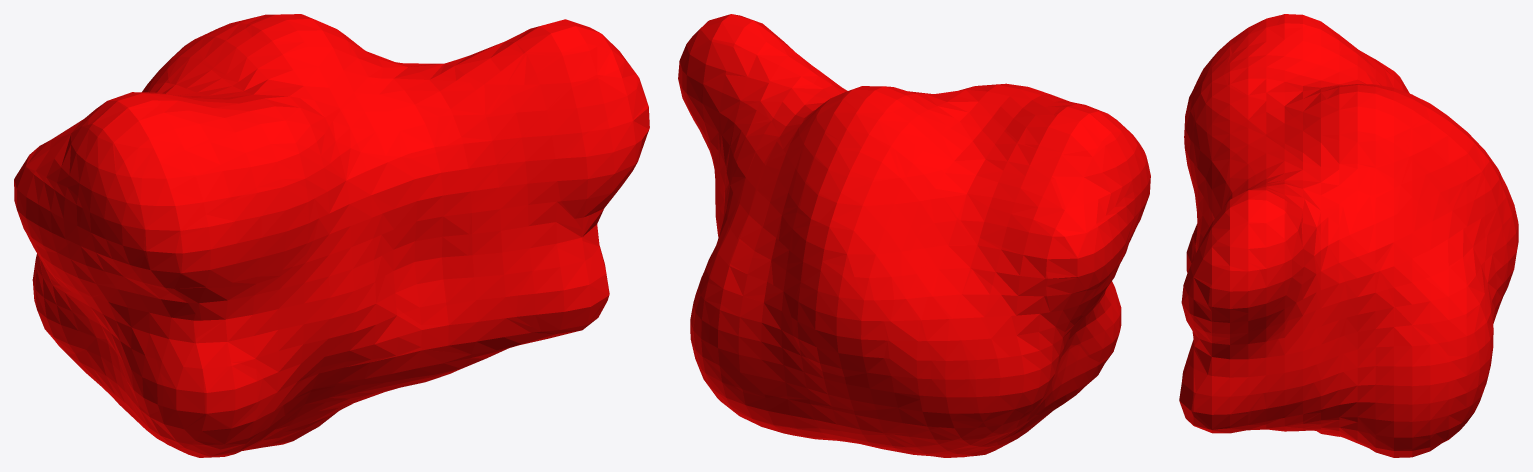
Rendered from infA_coarse.dae.
3 views of the same model, side by side, from view 1: azimuth 30°, elevation 25°; view 2: azimuth 150°, elevation 25°; view 3: azimuth 270°, elevation 25° (orthographic). The views are drawn at different scales.
Visible parts, largest first — view 1: infA; view 2: infA; view 3: infA.
Boxes of the visible parts, x1,y1,x2,y2 form: infA: (14, 14, 649, 457); infA: (678, 14, 1150, 457); infA: (1179, 14, 1518, 457).
Size of the model in its own units: 41.61 by 29.49 by 26.01.
